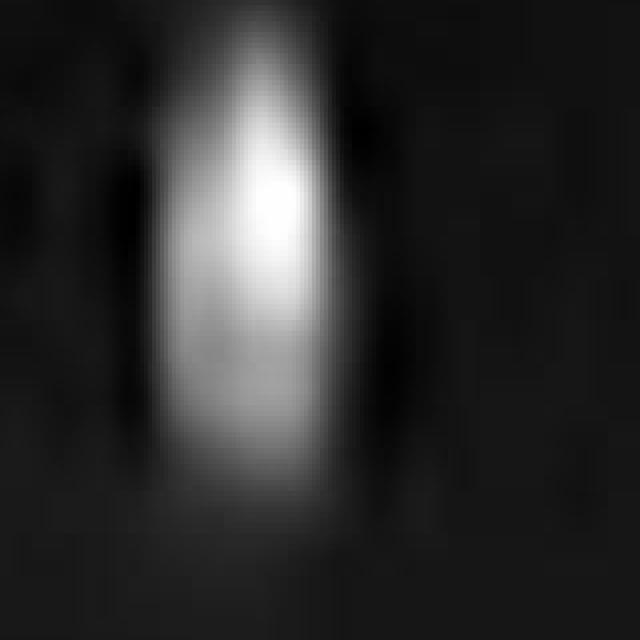person: (131, 14, 395, 522)
